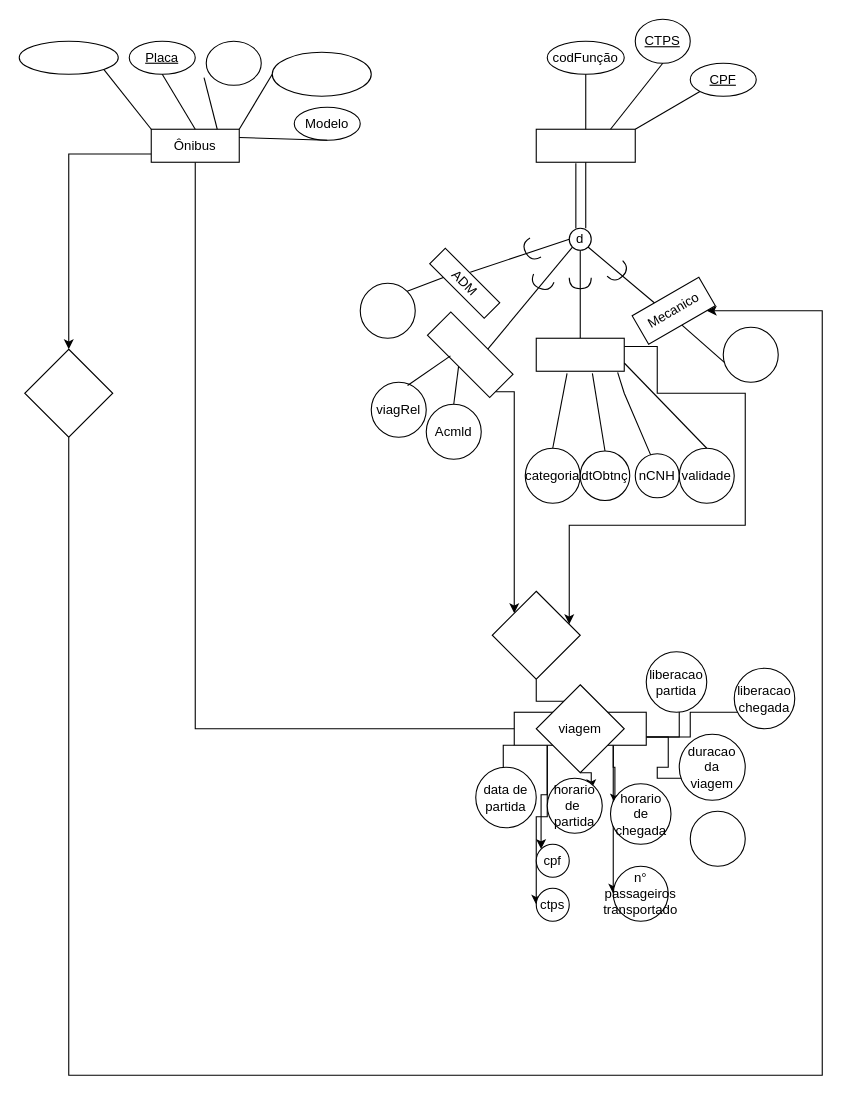
The diagram is 850 pixels wide and 1103 high, and some of its shapes have lost their labels. Here are the shapes that lost their labels. From the top down, the centre of each, then its label:
At point 68,57: "Ano Fabricação".
At point 233,62: "Chassi".
At point 321,73: "codPassageiro".
At point 585,145: "Empregados".
At point 387,310: "codBanc".
At point 469,354: "Cobradores".
At point 579,354: "Motorista".
At point 750,354: "nArmario".
At point 68,392: "liberaçao do onibus".
At point 535,634: "associado".
At point 717,838: "data de chegada".
